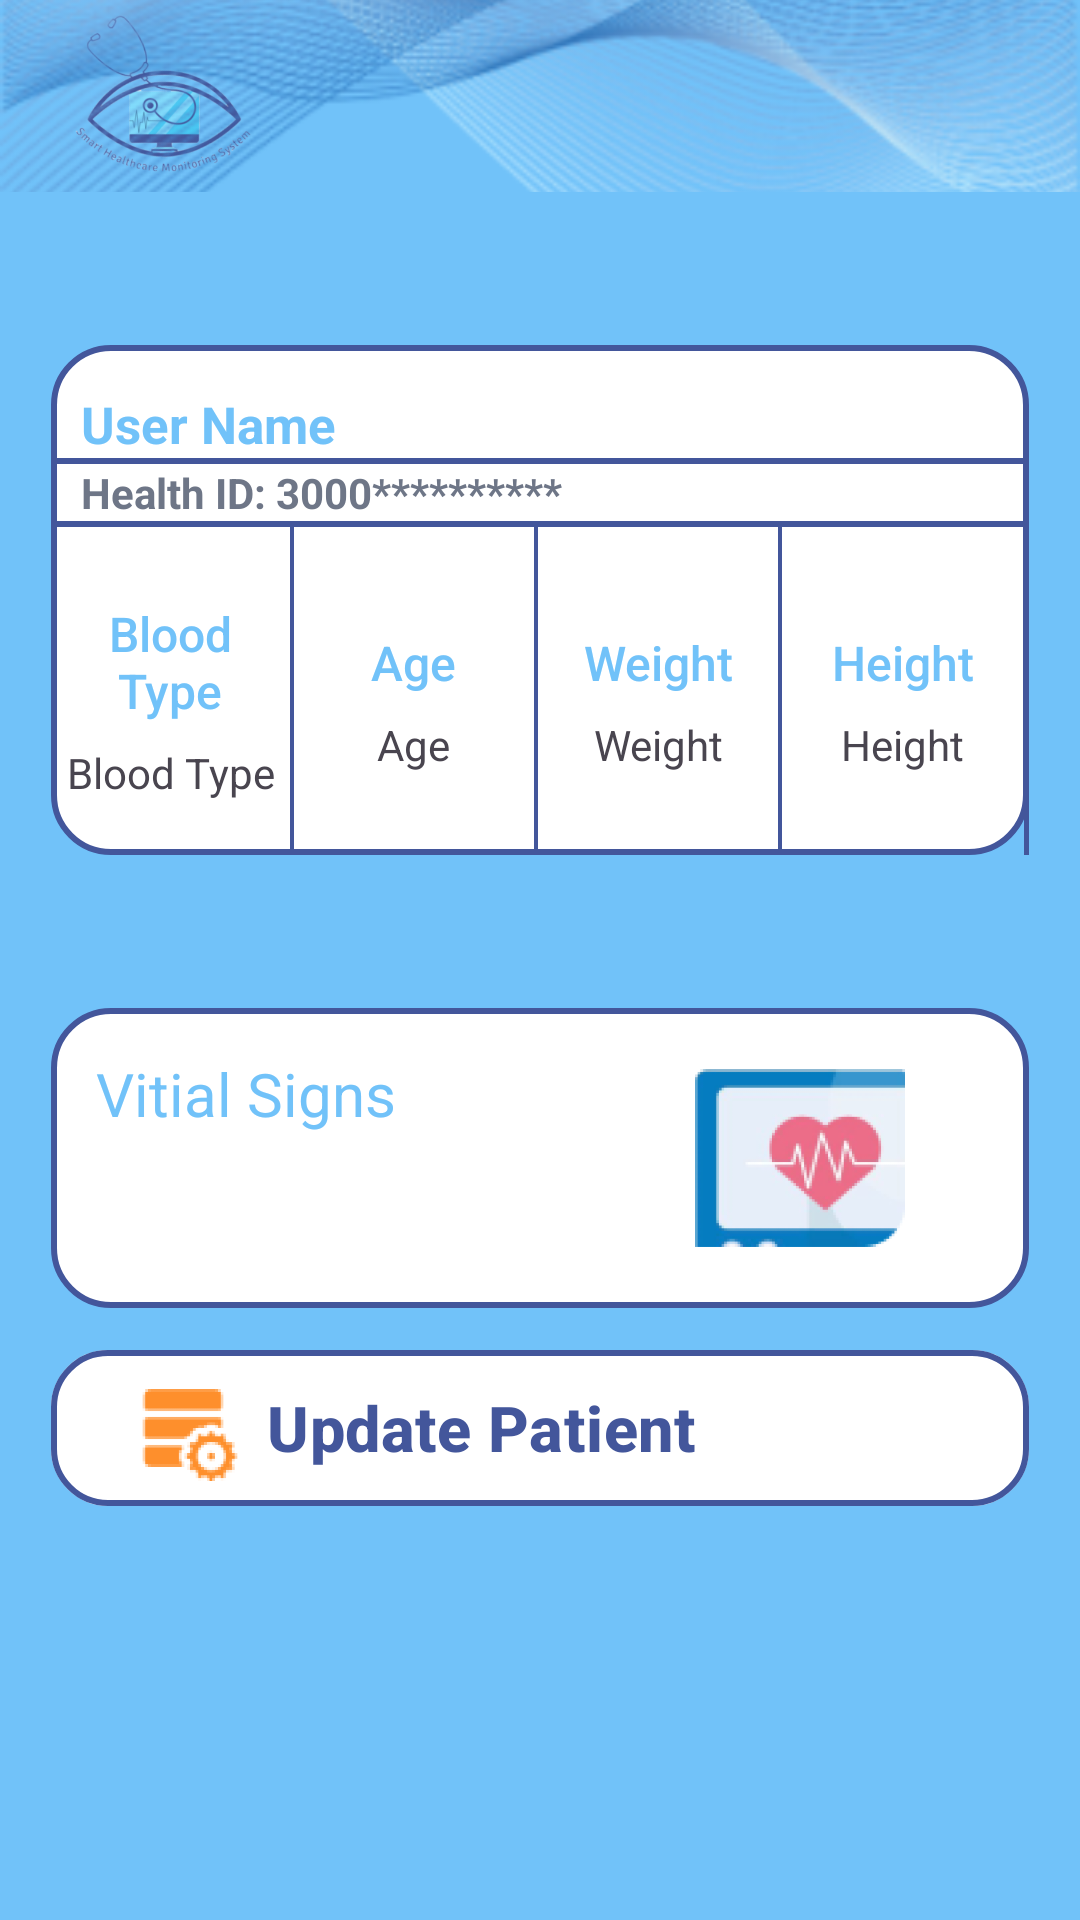

Screen size 1080*1920. Icon name, then its box in pixels as bbox(x1, y1, x2, y2):
signs: bbox(695, 1069, 905, 1247)
